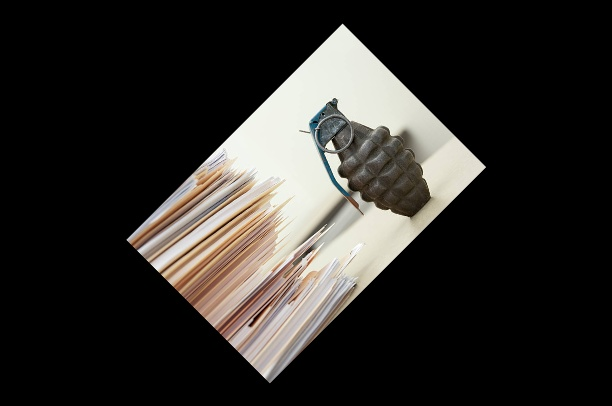e1: (305, 97, 434, 220)
